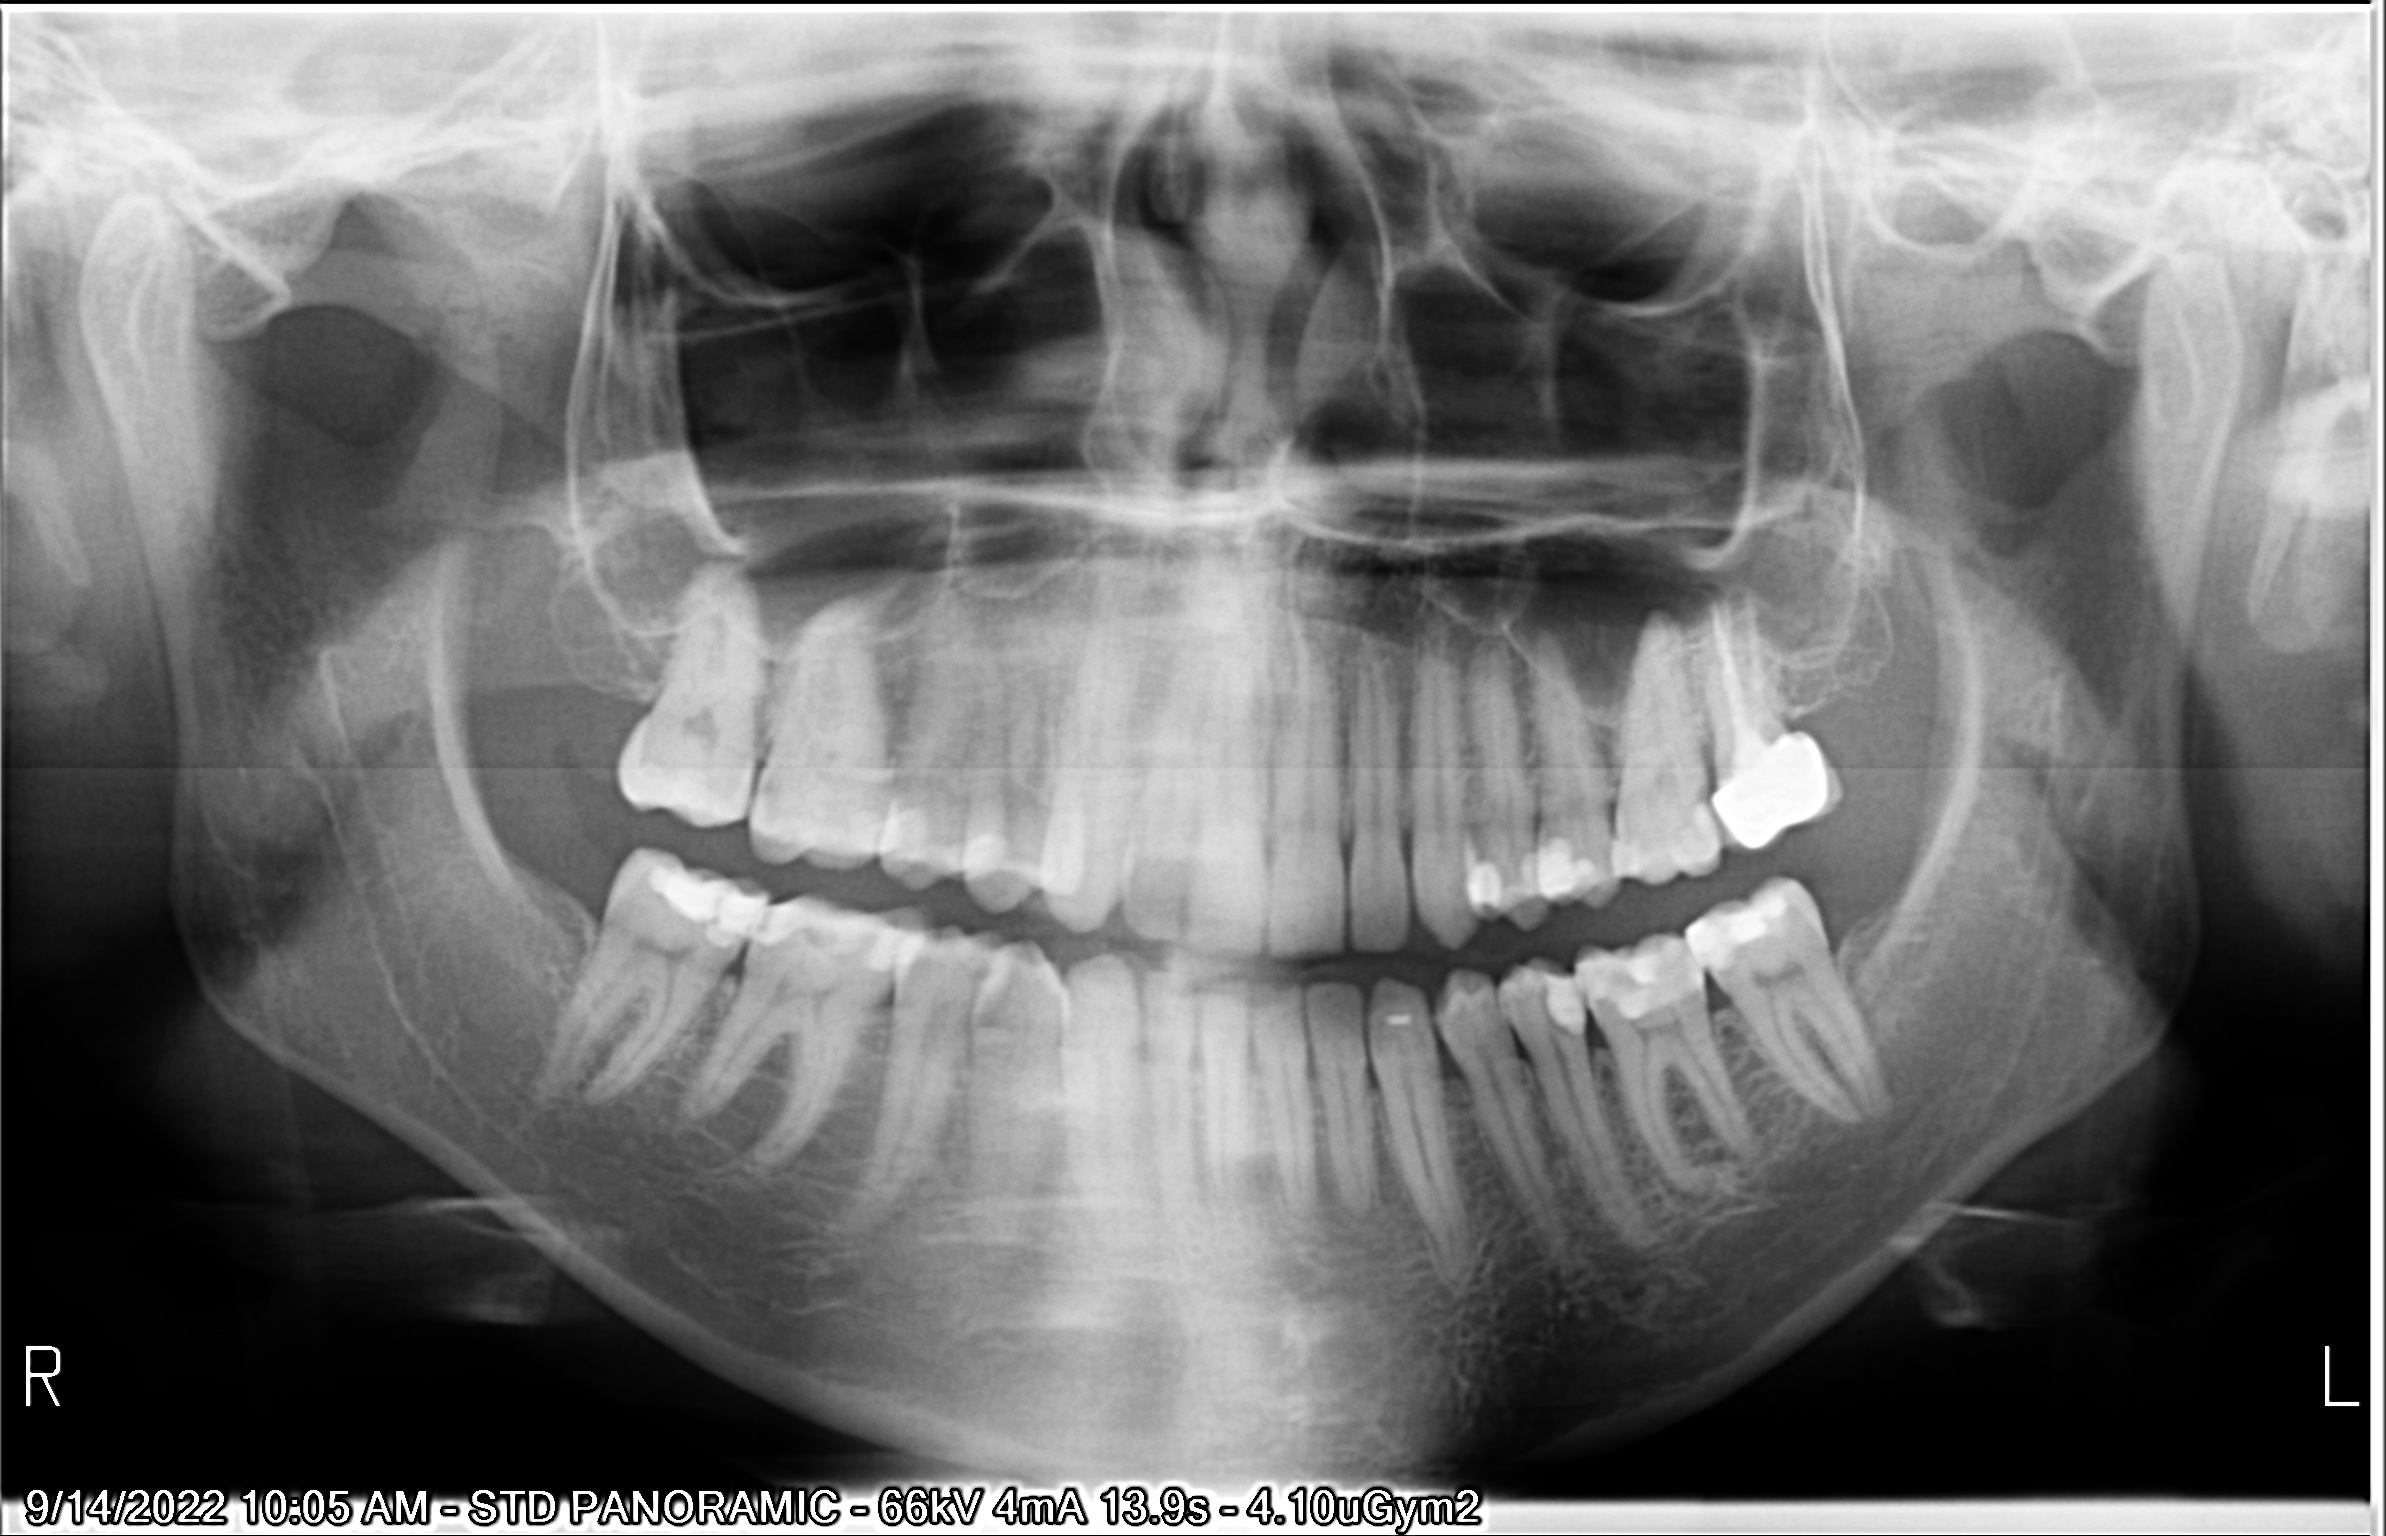END: (1701, 595, 1779, 755)
OBT: (650, 861, 762, 938), (1694, 894, 1789, 971), (1602, 941, 1694, 1011), (1537, 837, 1603, 905), (1537, 971, 1590, 1040), (861, 913, 922, 972), (1463, 847, 1510, 915), (1609, 833, 1649, 884)
PRR: (1711, 725, 1828, 845)
